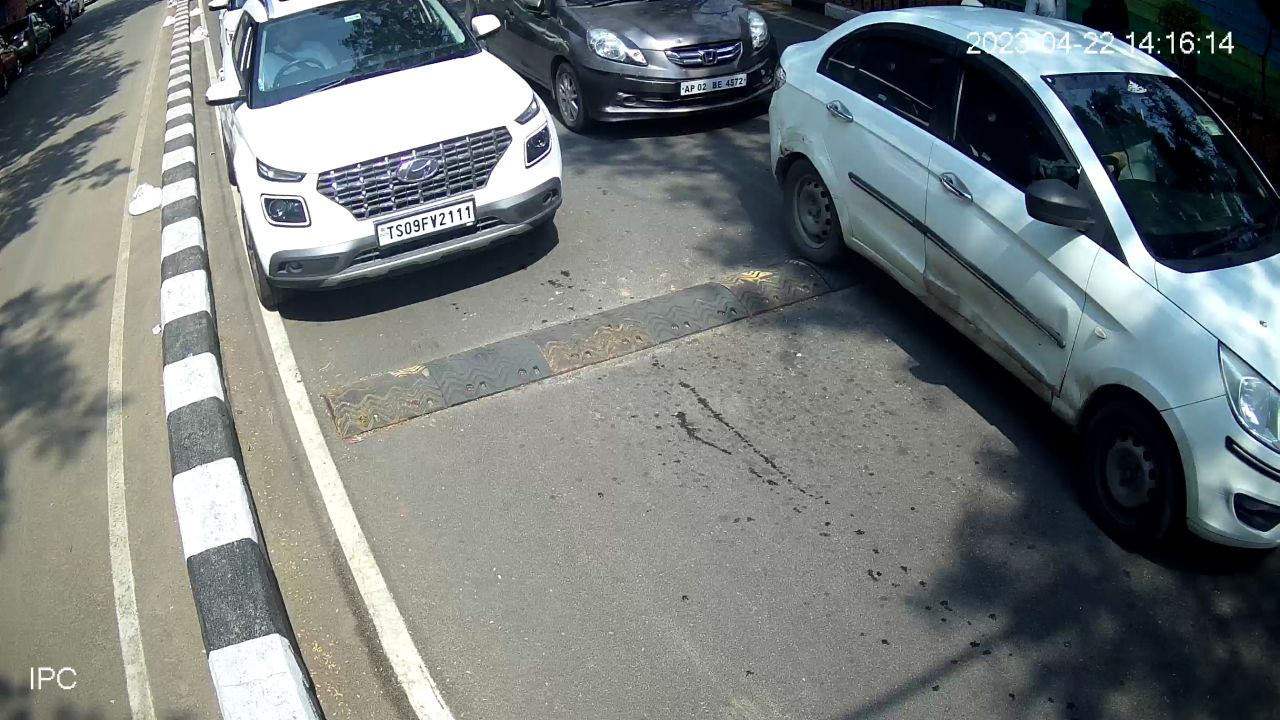license_plate: (372, 194, 482, 256), (671, 66, 754, 108)
